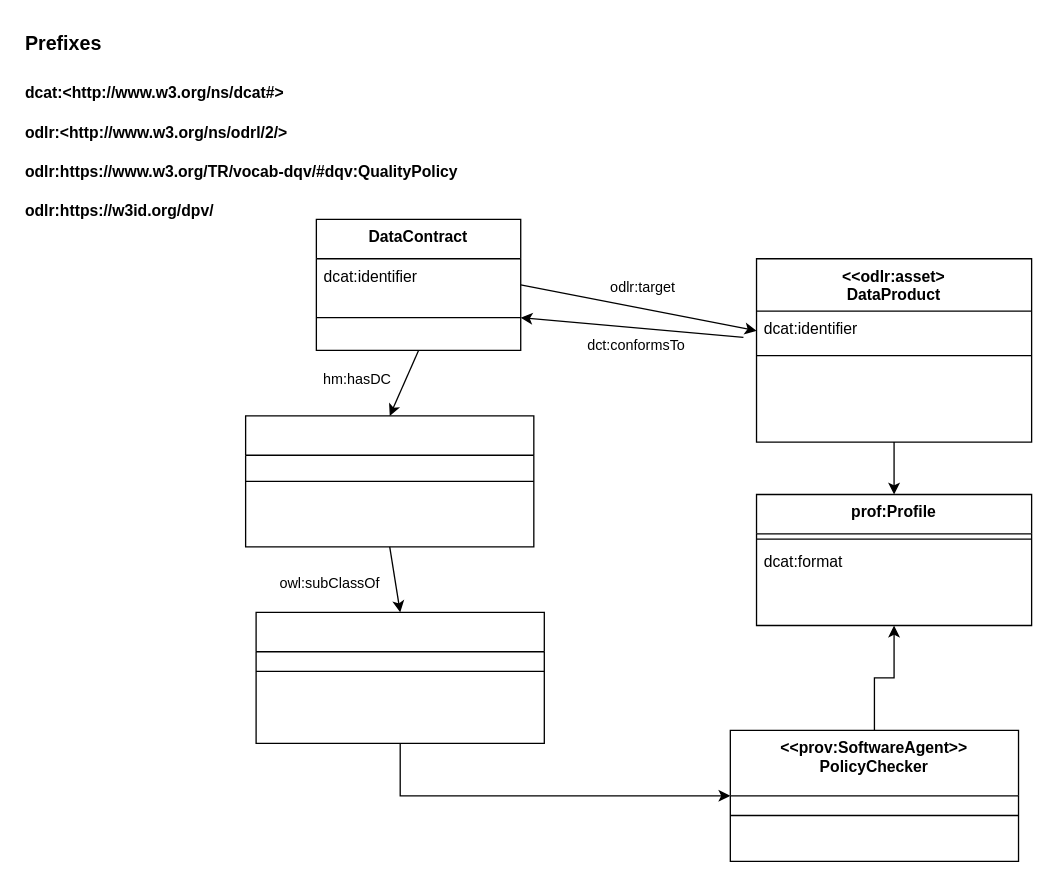
Some shapes in this 1055 by 884 pixel diagram are drawn without their labels. The shapes that lost their labels are listed below. From the top down, each one's centre as x and y in pixels, then its label:
(x=389, y=481): odlr:Policy
(x=399, y=677): odlr:Constraint
